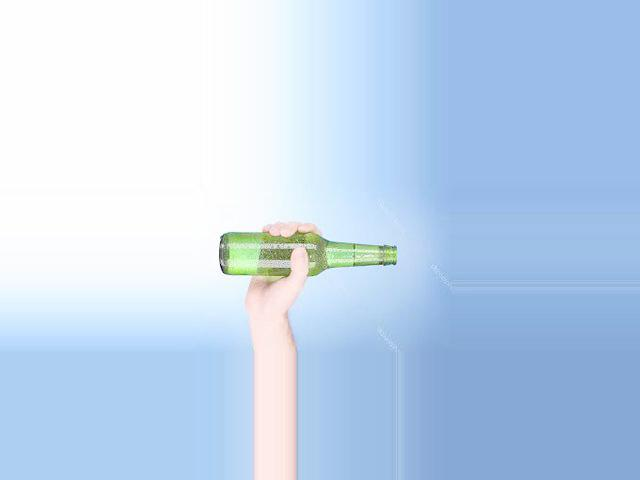beer: (218, 233, 397, 275)
